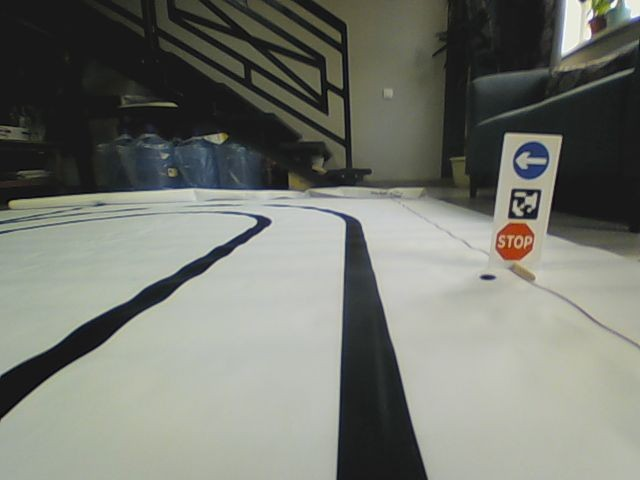Stop: (494, 222, 535, 262)
